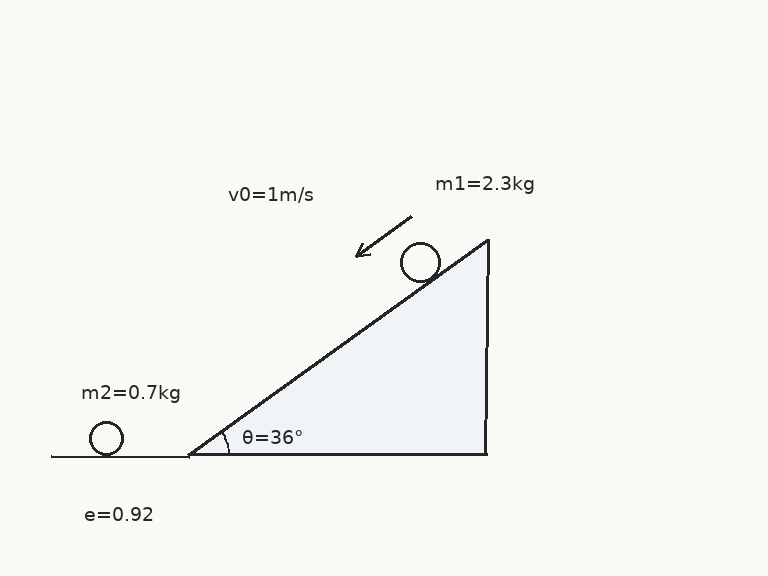ball: (398, 240, 442, 284), (87, 419, 125, 457)
ramp: (187, 237, 489, 457)
